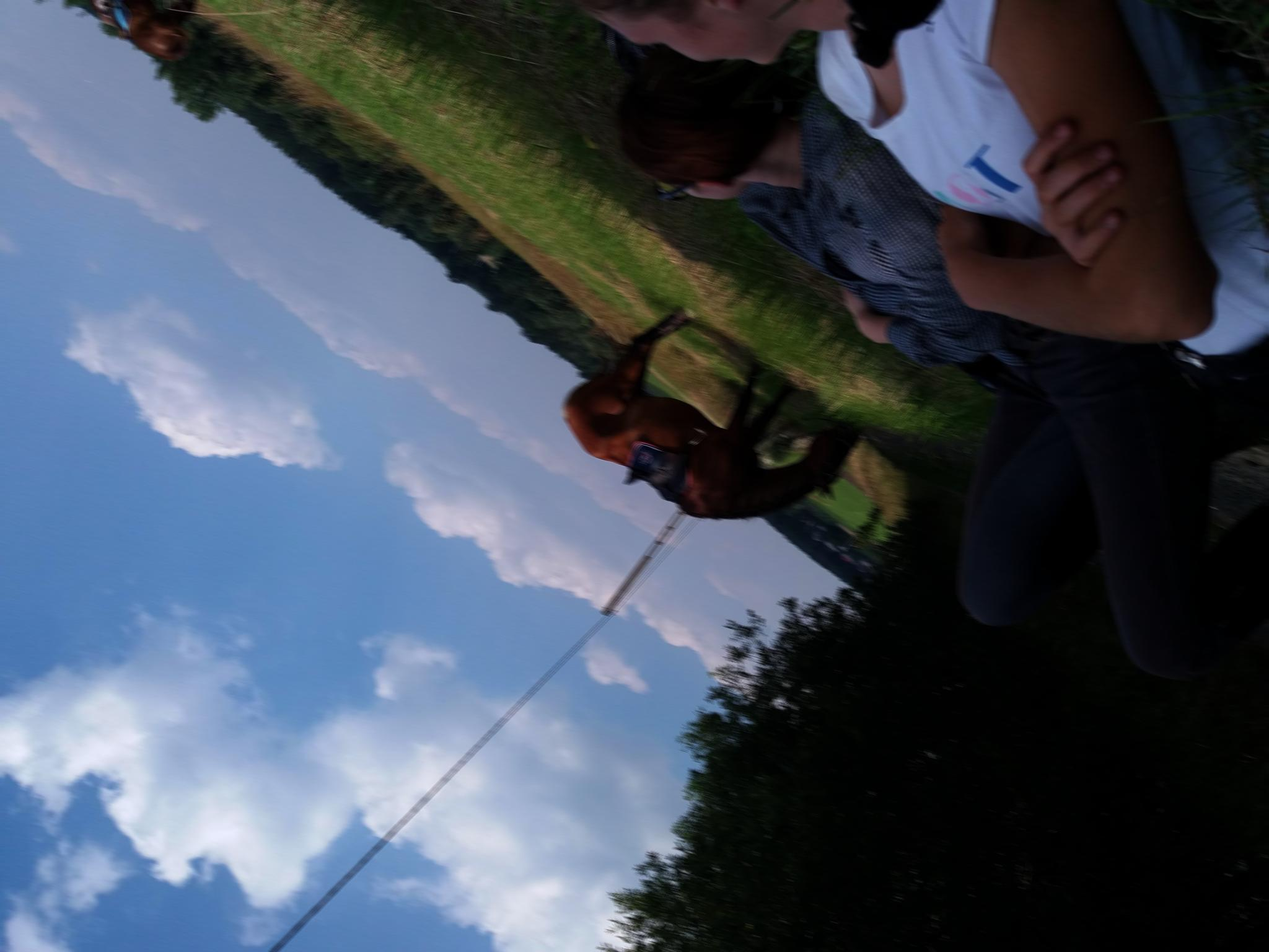horse: (562, 305, 865, 521)
